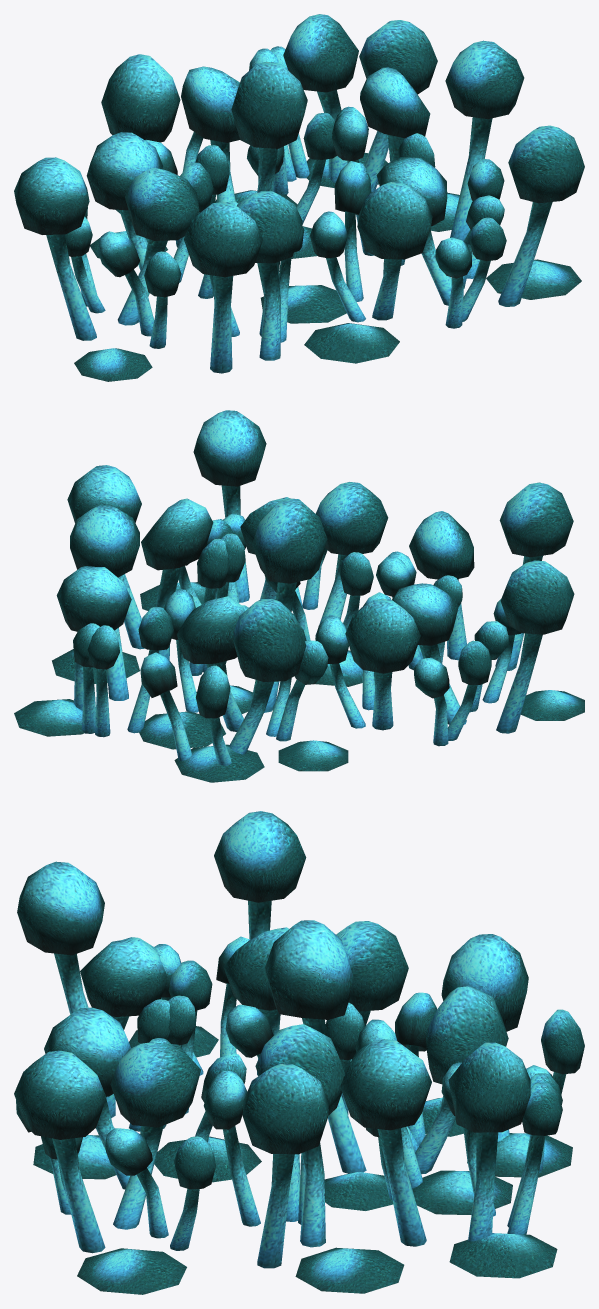
Rendered from mushroom bed 2.fbx.
3 renders of one model, top to bottom at view 1: azimuth 30°, elevation 25°; view 2: azimuth 150°, elevation 25°; view 3: azimuth 270°, elevation 25°, orthographic. The views are drawn at different scales.
Parts seen in each view (by area): view 1: mushroom_bed_2; view 2: mushroom_bed_2; view 3: mushroom_bed_2.
Part boxes in pixels (x1=…): mushroom_bed_2: x1=14, y1=14, x2=584, y2=381; mushroom_bed_2: x1=14, y1=410, x2=584, y2=782; mushroom_bed_2: x1=14, y1=811, x2=584, y2=1294.
Bounding box in the file's own units: 1.58 × 0.6058 × 1.32.
